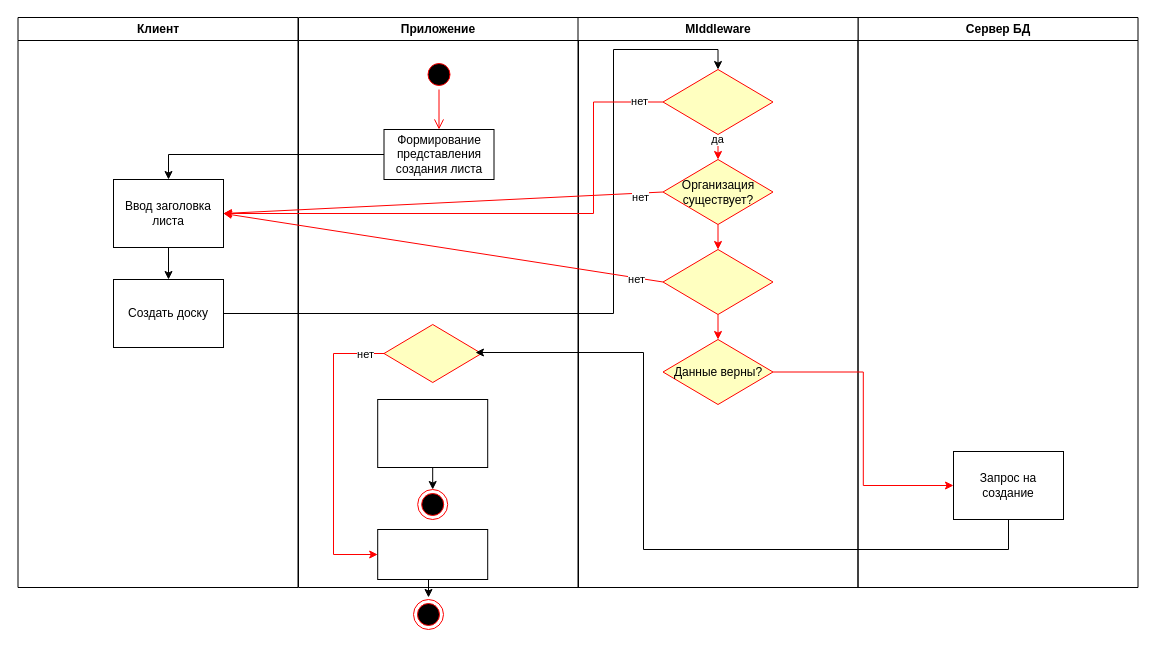
This 1155x647 diagram has some shape labels left out. The shapes that lost their labels are listed below. From the top down, each one's centre as x and y in pixels, then its label:
At (717,101): "Пользователь авторизован?".
At (717,281): "Доска существует?".
At (432,353): "БД доступна?".
At (432,433): "Создать запись в БД и отрисовать пользовательскую лист".
At (432,554): "Отрисовать ошибку".
